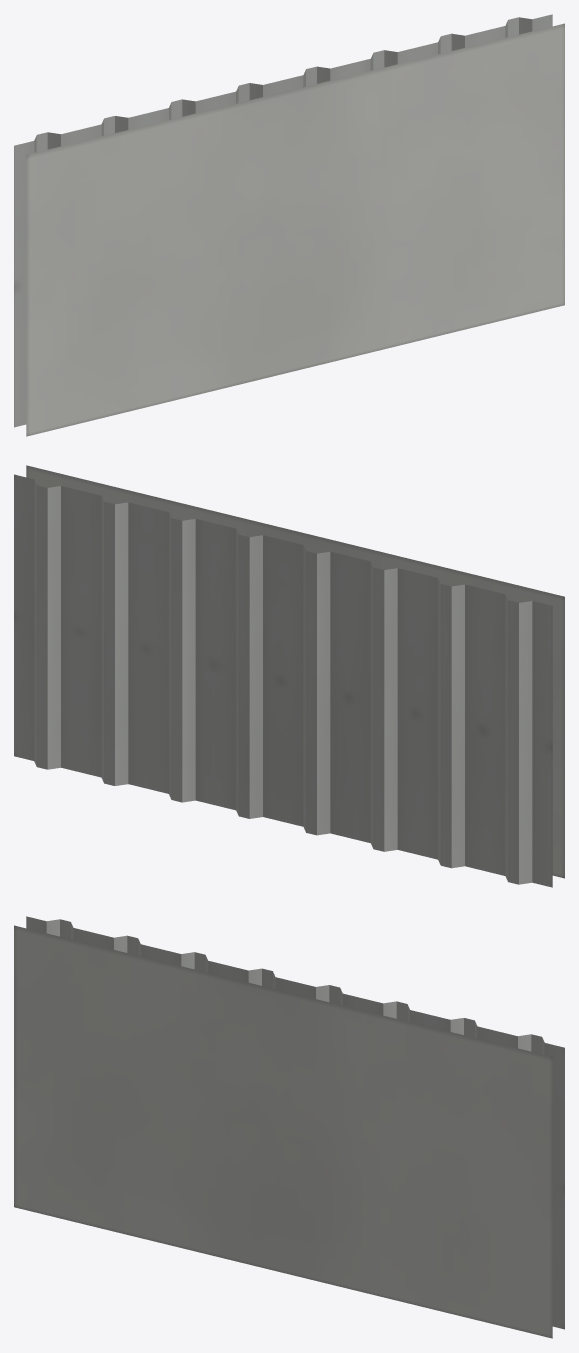
File: Wall_Panel.fbx
The picture shows the model from 3 angles, top to bottom: view 1: azimuth 30°, elevation 25°; view 2: azimuth 150°, elevation 25°; view 3: azimuth 330°, elevation 25°; orthographic projection.
Visible parts, largest first — view 1: Wall_Panel_LOD0; view 2: Wall_Panel_LOD0; view 3: Wall_Panel_LOD0.
Part boxes in pixels (x1,y1,x2,y2): Wall_Panel_LOD0: (14, 14, 564, 436); Wall_Panel_LOD0: (14, 465, 564, 887); Wall_Panel_LOD0: (14, 916, 564, 1338).
Bounding box in the file's own units: 2 × 1 × 0.115.
1 material, 1 textured.
